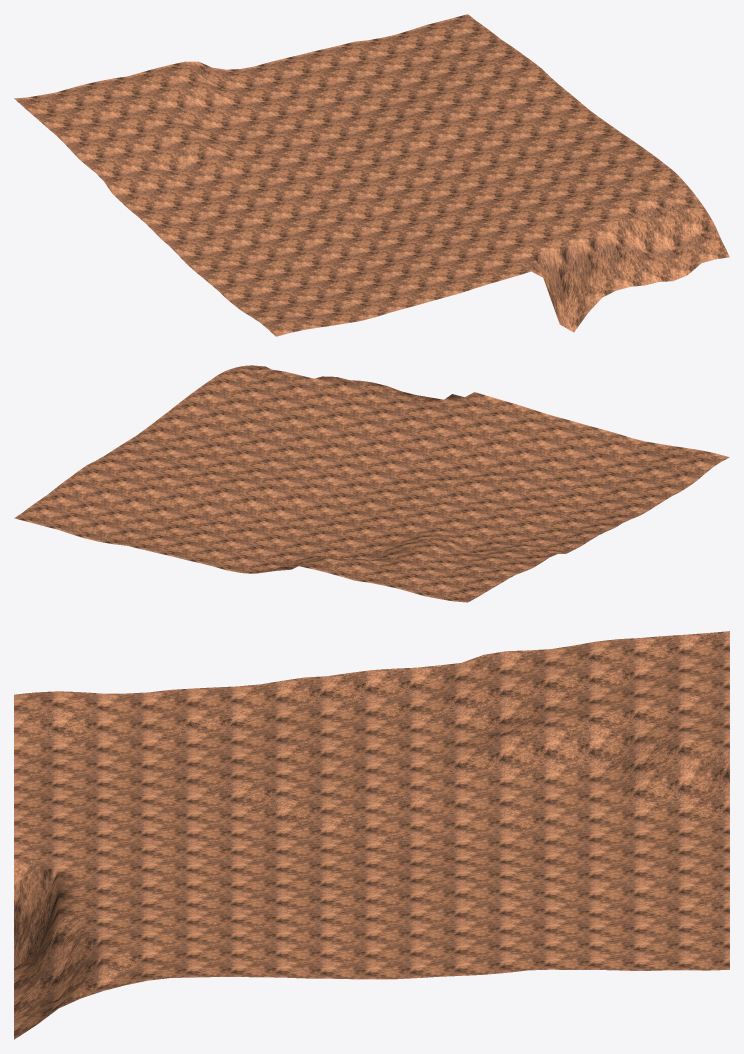
The model's file is terrain_03_22.dae.
3 renders of one model, top to bottom at view 1: azimuth 30°, elevation 25°; view 2: azimuth 150°, elevation 25°; view 3: azimuth 270°, elevation 25°, orthographic. The views are drawn at different scales.
Visible parts, largest first — view 1: terrain_03_22-node; view 2: terrain_03_22-node; view 3: terrain_03_22-node.
Part boxes in pixels (<box>): terrain_03_22-node: <box>14,14,729,336</box>; terrain_03_22-node: <box>14,365,729,602</box>; terrain_03_22-node: <box>14,631,729,1039</box>.
Size of the model in its own units: 128 by 128 by 30.99.
Materials: 1 (1 with a texture image).
